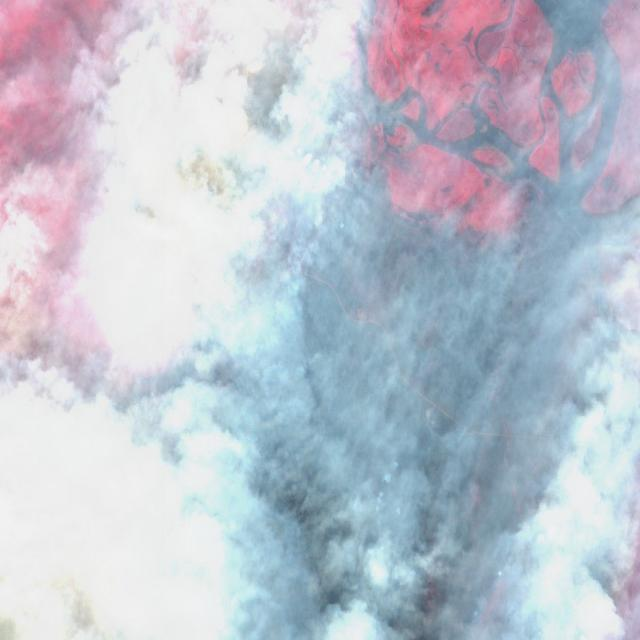fire: (57, 5, 326, 640)
